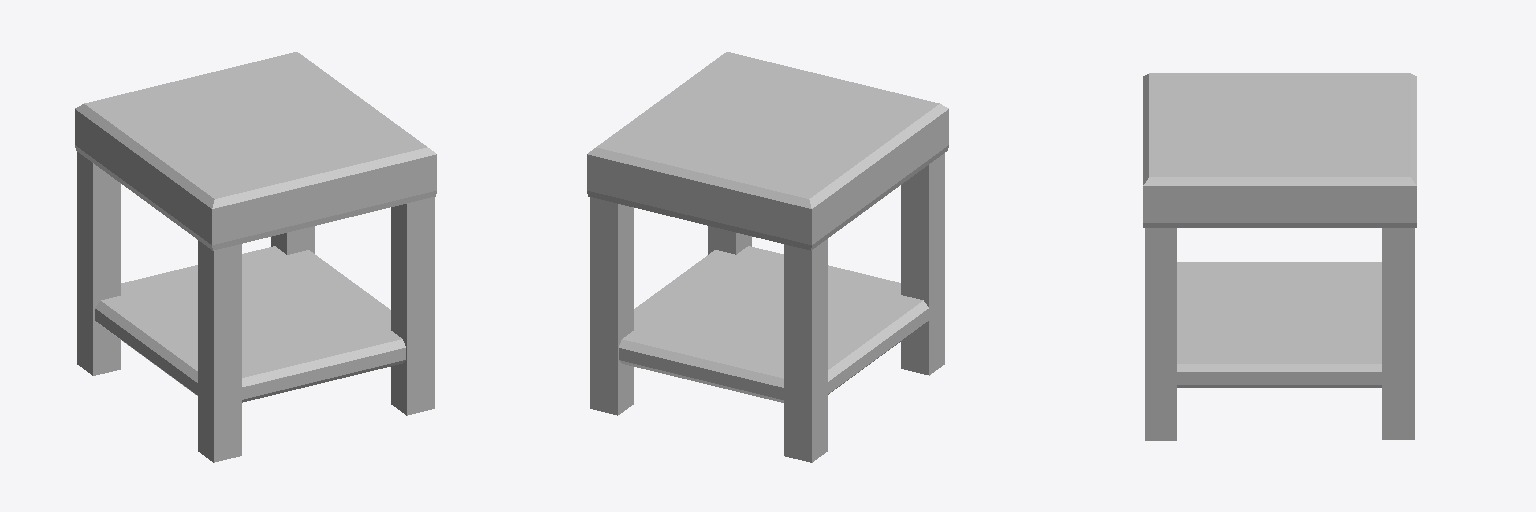
The model's file is SideTable.obj.
3 views of the same model, side by side, from view 1: azimuth 30°, elevation 25°; view 2: azimuth 150°, elevation 25°; view 3: azimuth 270°, elevation 25° (orthographic).
Visible parts, largest first — view 1: SideTable; view 2: SideTable; view 3: SideTable.
Boxes of the visible parts, x1=… form: SideTable: x1=75, y1=52, x2=436, y2=462; SideTable: x1=587, y1=52, x2=948, y2=462; SideTable: x1=1143, y1=73, x2=1416, y2=440.
Bounding box in the file's own units: 3.27 × 3.62 × 3.45.